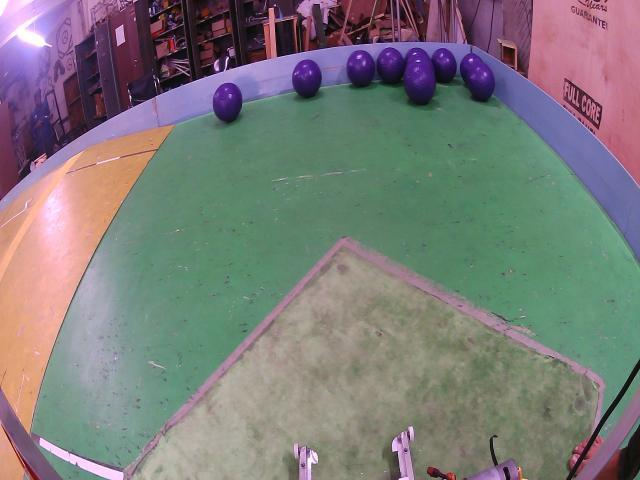jambhalya: (404, 60, 436, 105), (212, 83, 242, 122), (466, 62, 495, 102), (292, 60, 322, 98), (346, 50, 375, 87), (376, 47, 405, 83), (431, 48, 456, 82), (460, 53, 482, 83), (404, 47, 429, 64), (406, 53, 434, 68)
